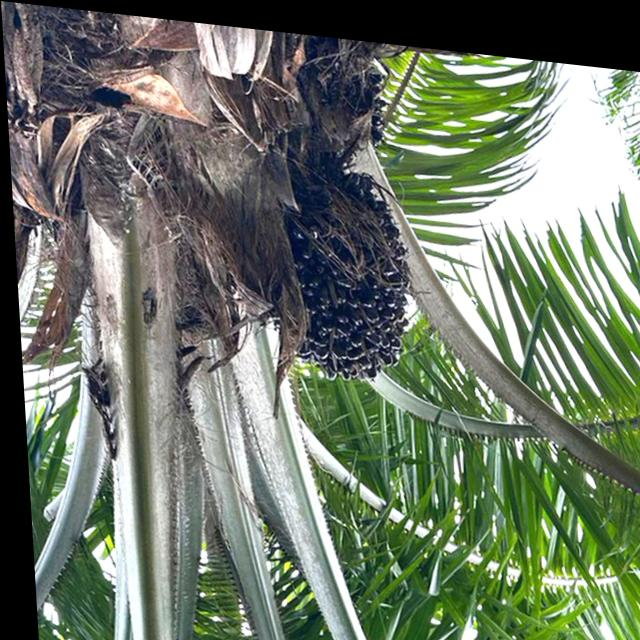unripe: (258, 137, 427, 391)
